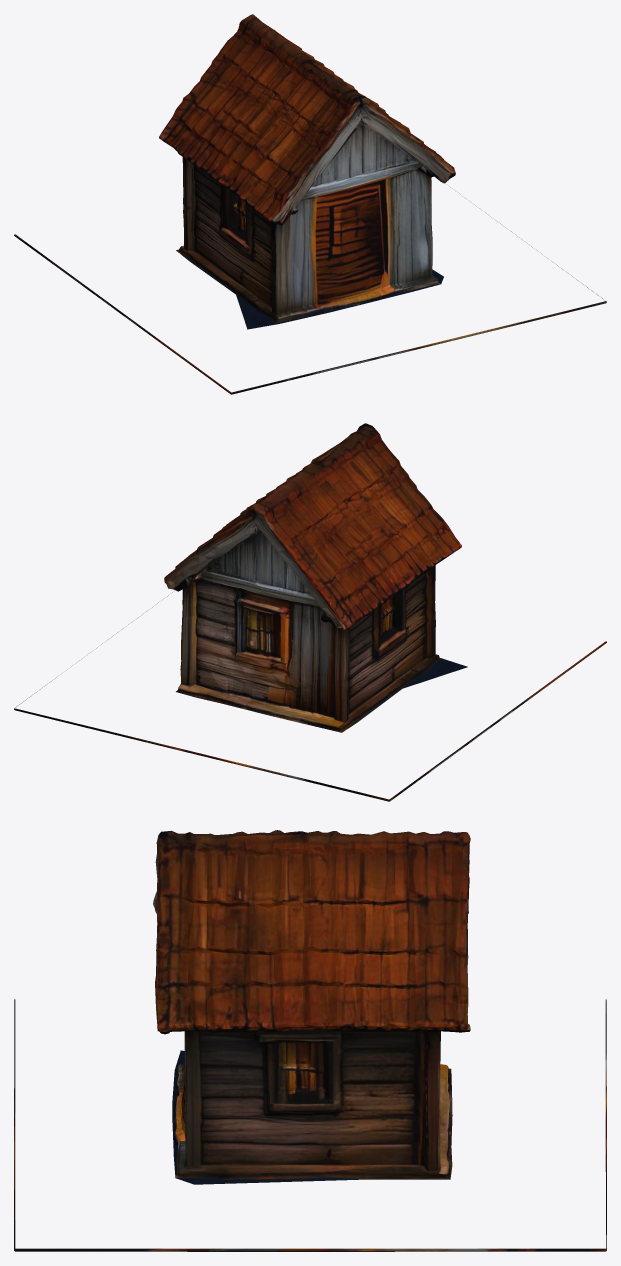
The model's file is build_boathouse_01.glb.
3 views of the same model, one above another, from view 1: azimuth 30°, elevation 25°; view 2: azimuth 150°, elevation 25°; view 3: azimuth 270°, elevation 25° (orthographic). The views are drawn at different scales.
Parts seen in each view (by area): view 1: 341a2300-4272-421b-bfce-487c6c575b52_texturing.obj; view 2: 341a2300-4272-421b-bfce-487c6c575b52_texturing.obj; view 3: 341a2300-4272-421b-bfce-487c6c575b52_texturing.obj.
Boxes of the visible parts, bbox=[...] form: 341a2300-4272-421b-bfce-487c6c575b52_texturing.obj: bbox=[14, 14, 606, 394]; 341a2300-4272-421b-bfce-487c6c575b52_texturing.obj: bbox=[14, 423, 606, 801]; 341a2300-4272-421b-bfce-487c6c575b52_texturing.obj: bbox=[14, 830, 606, 1251].
Size of the model in its own units: 1.99 by 1.09 by 1.99.
1 material, 1 textured.
